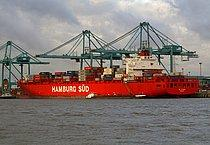Ship: (17, 53, 203, 100)
